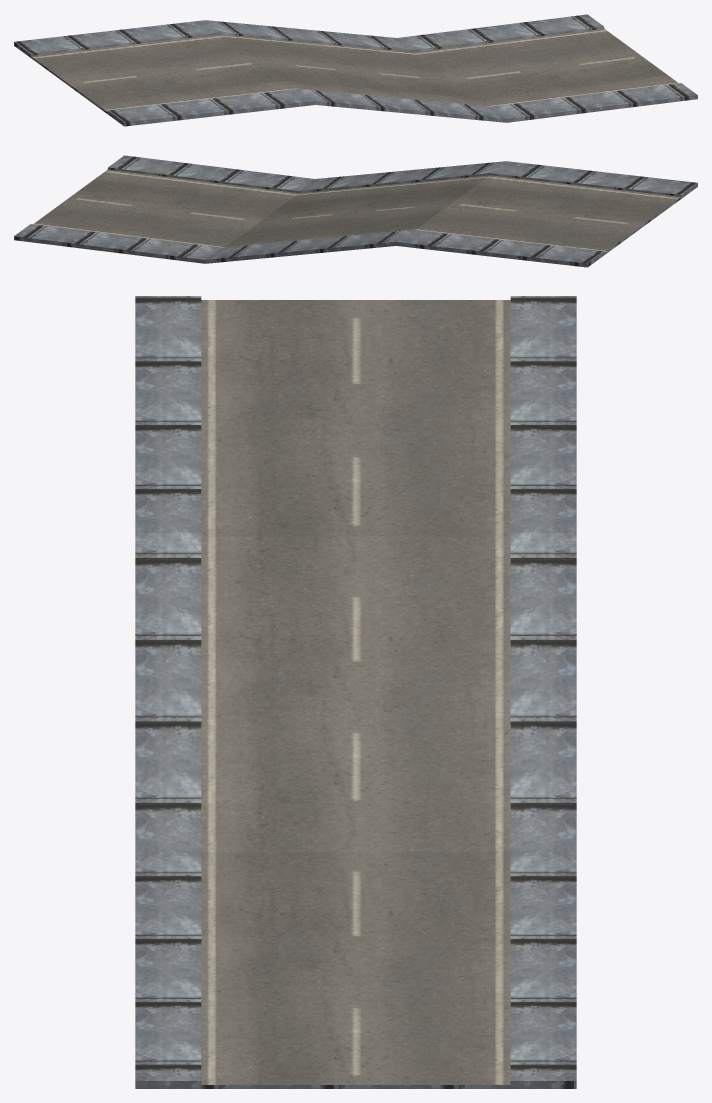
The model's file is Urban_Road4Slope_Model.fbx.
3 views of the same model, one above another, from view 1: azimuth 30°, elevation 25°; view 2: azimuth 150°, elevation 25°; view 3: azimuth 270°, elevation 25° (orthographic). The views are drawn at different scales.
Parts seen in each view (by area): view 1: Urban_Road4Slope_Mesh; view 2: Urban_Road4Slope_Mesh; view 3: Urban_Road4Slope_Mesh.
Boxes of the visible parts, x1,y1,x2,y2 form: Urban_Road4Slope_Mesh: (14,14,697,126); Urban_Road4Slope_Mesh: (14,155,697,267); Urban_Road4Slope_Mesh: (135,296,576,1088).
Size of the model in its own units: 48 by 9.32 by 16.
